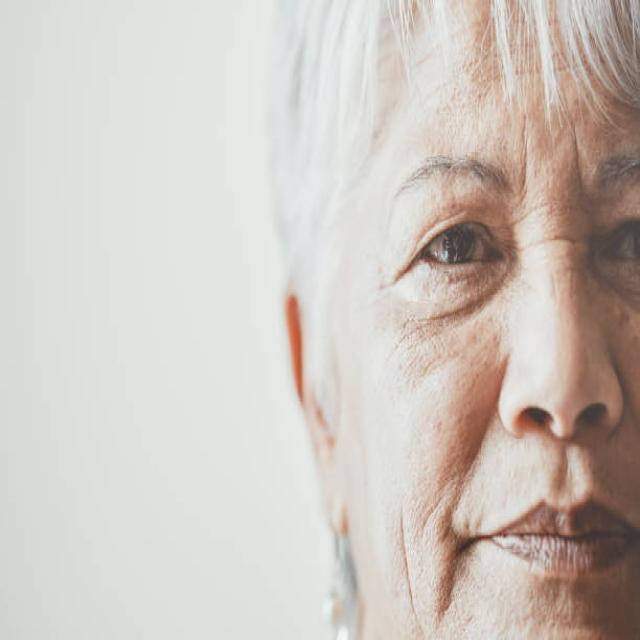Dry-Skin: (330, 301, 474, 609)
